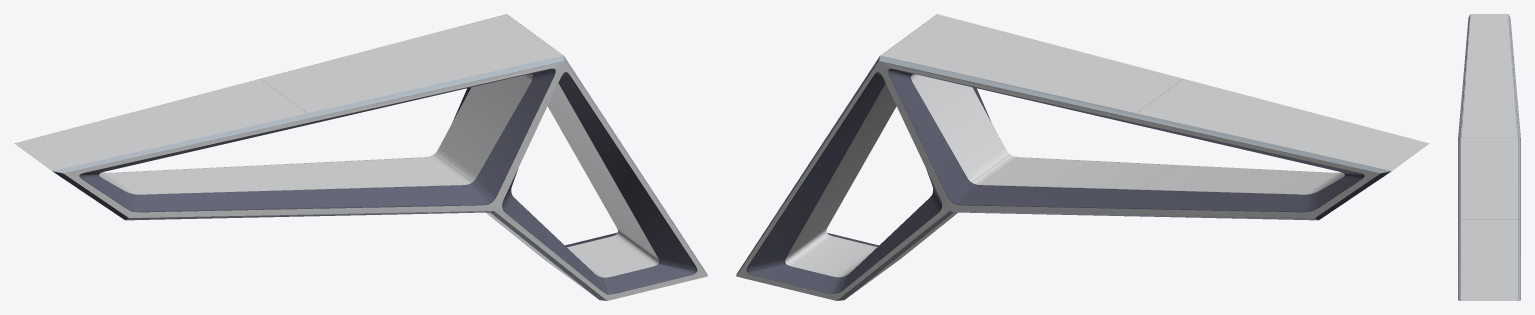
The model's file is Arch_Big_01.FBX.
3 views of the same model, side by side, from view 1: azimuth 30°, elevation 25°; view 2: azimuth 150°, elevation 25°; view 3: azimuth 270°, elevation 25° (orthographic). The views are drawn at different scales.
Visible parts, largest first — view 1: Arch_Big_01; view 2: Arch_Big_01; view 3: Arch_Big_01.
Part boxes in pixels (x1,y1,x2,y2): Arch_Big_01: [14, 14, 707, 300]; Arch_Big_01: [736, 14, 1429, 300]; Arch_Big_01: [1458, 14, 1520, 300].
Bounding box in the file's own units: 36 × 13.5 × 6.
Materials: 1 (1 with a texture image).
